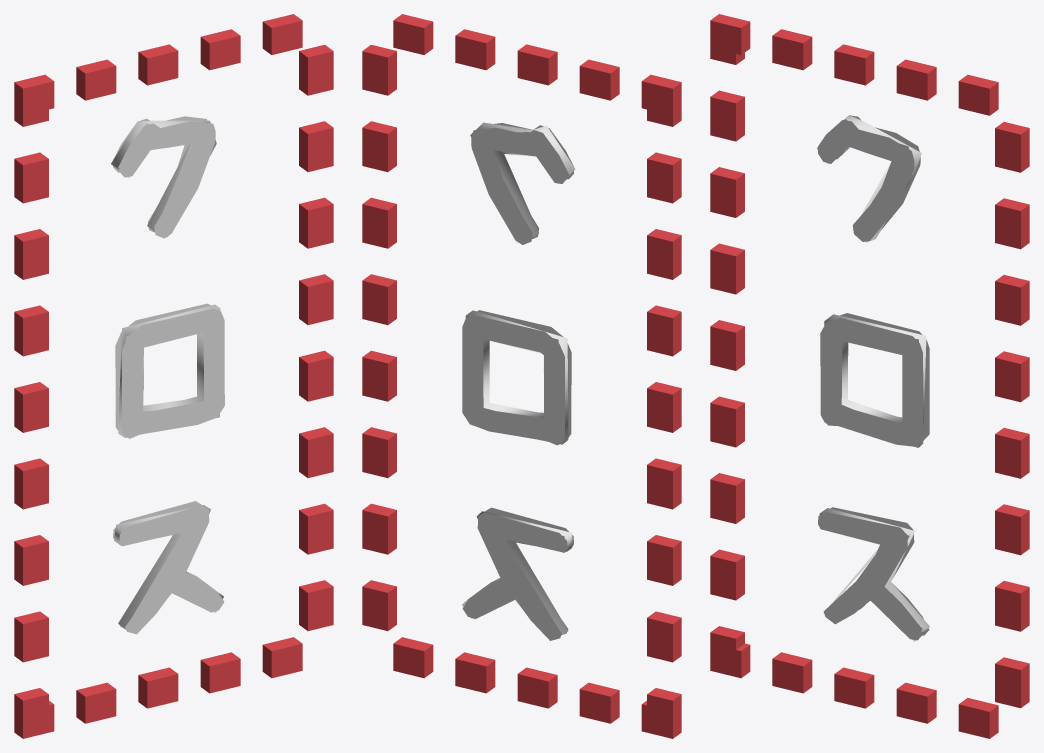
File: BilbordFour.fbx
The picture shows the model from 3 angles, left to right: view 1: azimuth 30°, elevation 25°; view 2: azimuth 150°, elevation 25°; view 3: azimuth 330°, elevation 25°; orthographic projection.
Parts seen in each view (by area): view 1: Plane.022, Text.016; view 2: Plane.022, Text.016; view 3: Plane.022, Text.016.
Part boxes in pixels (left/top/right/bottom): Plane.022: left=14, top=14, right=333, bottom=738; Text.016: left=111, top=116, right=224, bottom=634; Plane.022: left=362, top=14, right=681, bottom=738; Text.016: left=462, top=122, right=575, bottom=640; Plane.022: left=710, top=14, right=1029, bottom=738; Text.016: left=816, top=115, right=929, bottom=641.
Bounding box in the file's own units: 6 × 12 × 0.4085.
